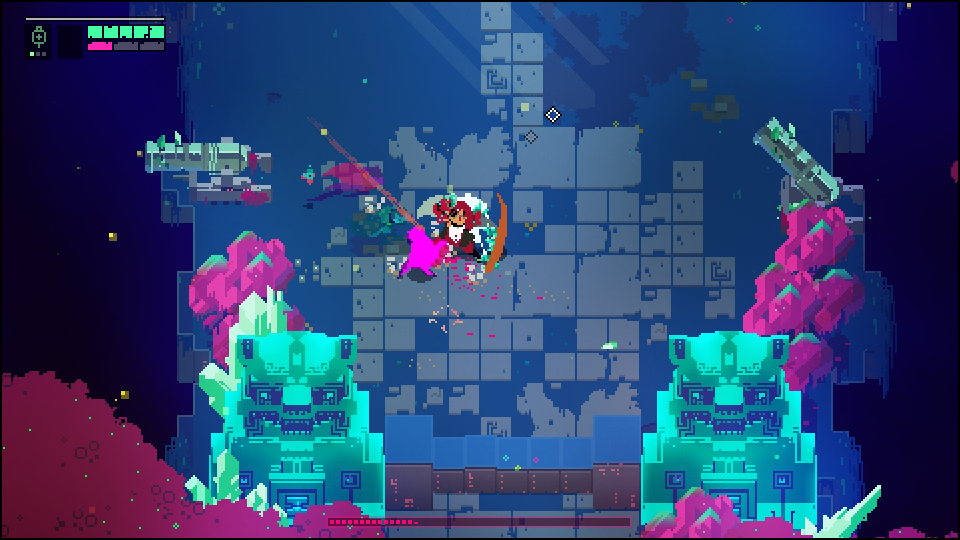hanged_man: (415, 188, 509, 274)
player: (409, 225, 442, 278)
